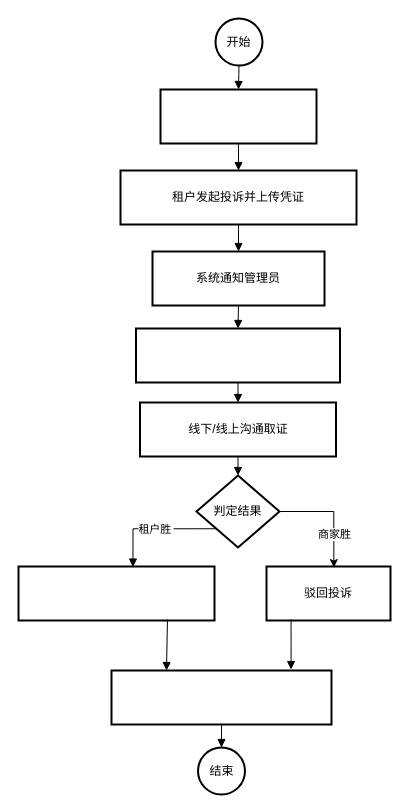
Image size: 408x812. Some labels were removed from this diagram. Each missing label, with the box of its shape:
执行退款/处罚商家: (17, 565, 215, 621)
更新投诉状态为已解决: (110, 669, 332, 725)
管理员查看双方证据: (134, 327, 340, 383)
订单产生纠纷: (159, 88, 317, 144)
